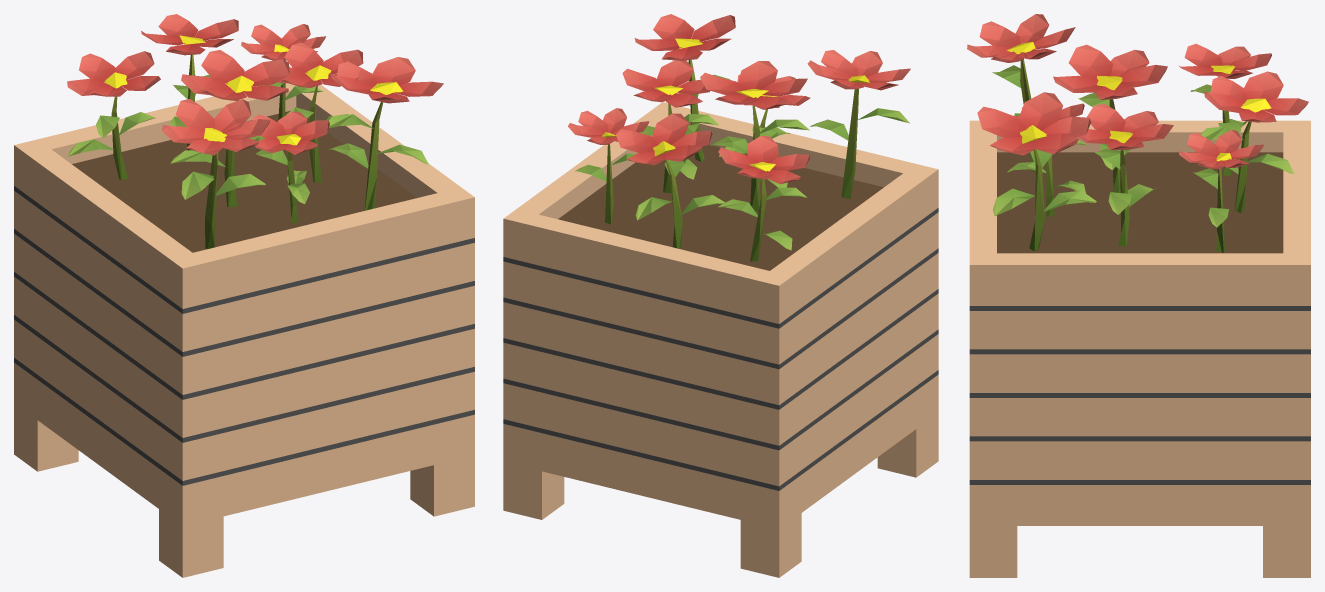
The model's file is Pot_02.fbx.
3 views of the same model, side by side, from view 1: azimuth 30°, elevation 25°; view 2: azimuth 150°, elevation 25°; view 3: azimuth 270°, elevation 25° (orthographic). The views are drawn at different scales.
Visible parts, largest first — view 1: Pot_02; view 2: Pot_02; view 3: Pot_02.
Boxes of the visible parts, x1,y1,x2,y2 form: Pot_02: [14, 14, 474, 577]; Pot_02: [503, 14, 938, 577]; Pot_02: [967, 14, 1310, 577].
Size of the model in its own units: 59.33 by 83.13 by 59.76.
